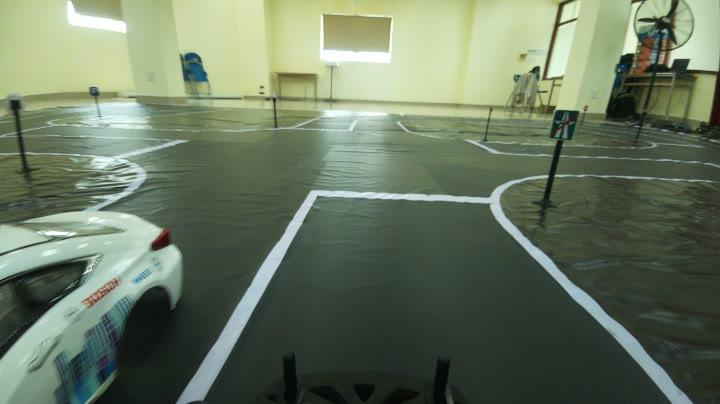car: (0, 189, 172, 400)
highway_exit: (546, 98, 590, 146)
